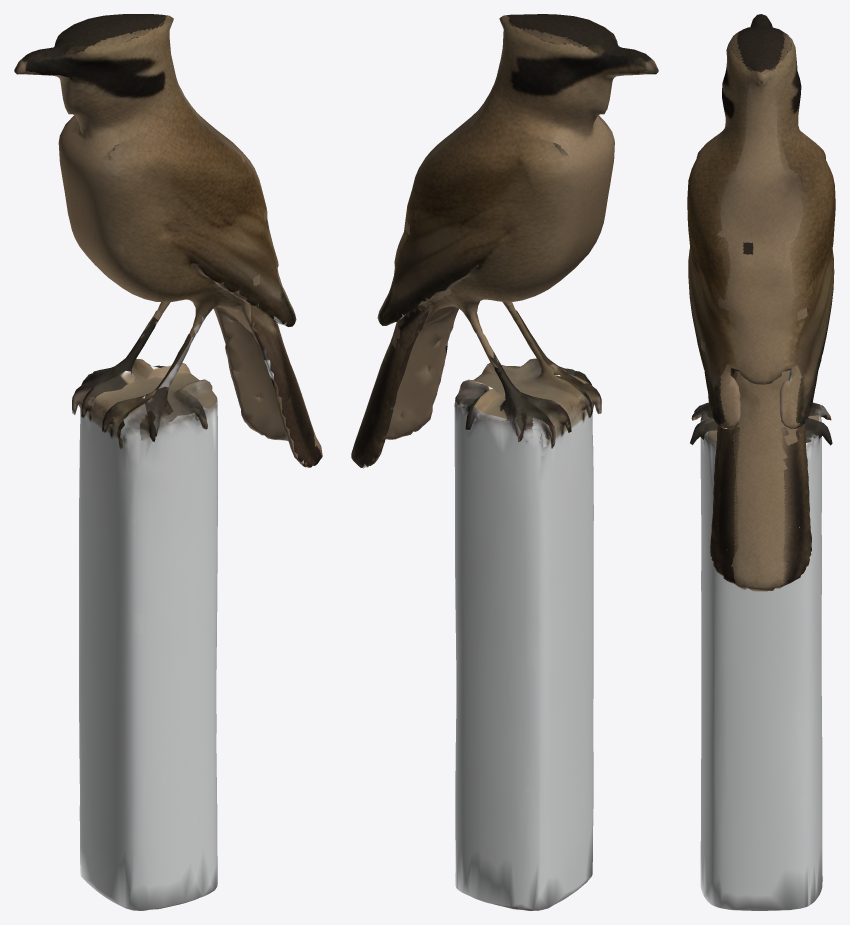
The model's file is chimango.glb.
The picture shows the model from 3 angles, left to right: view 1: azimuth 30°, elevation 25°; view 2: azimuth 150°, elevation 25°; view 3: azimuth 270°, elevation 25°; orthographic projection. The views are drawn at different scales.
Visible parts, largest first — view 1: temp_mesh.ply; view 2: temp_mesh.ply; view 3: temp_mesh.ply.
Boxes of the visible parts, box(x1,y1,x2,y2) form: temp_mesh.ply: box(14, 14, 322, 910); temp_mesh.ply: box(351, 14, 658, 910); temp_mesh.ply: box(687, 14, 835, 910).
Size of the model in its own units: 0.5772 by 1.6 by 0.259.
Materials: 1 (1 with a texture image).
